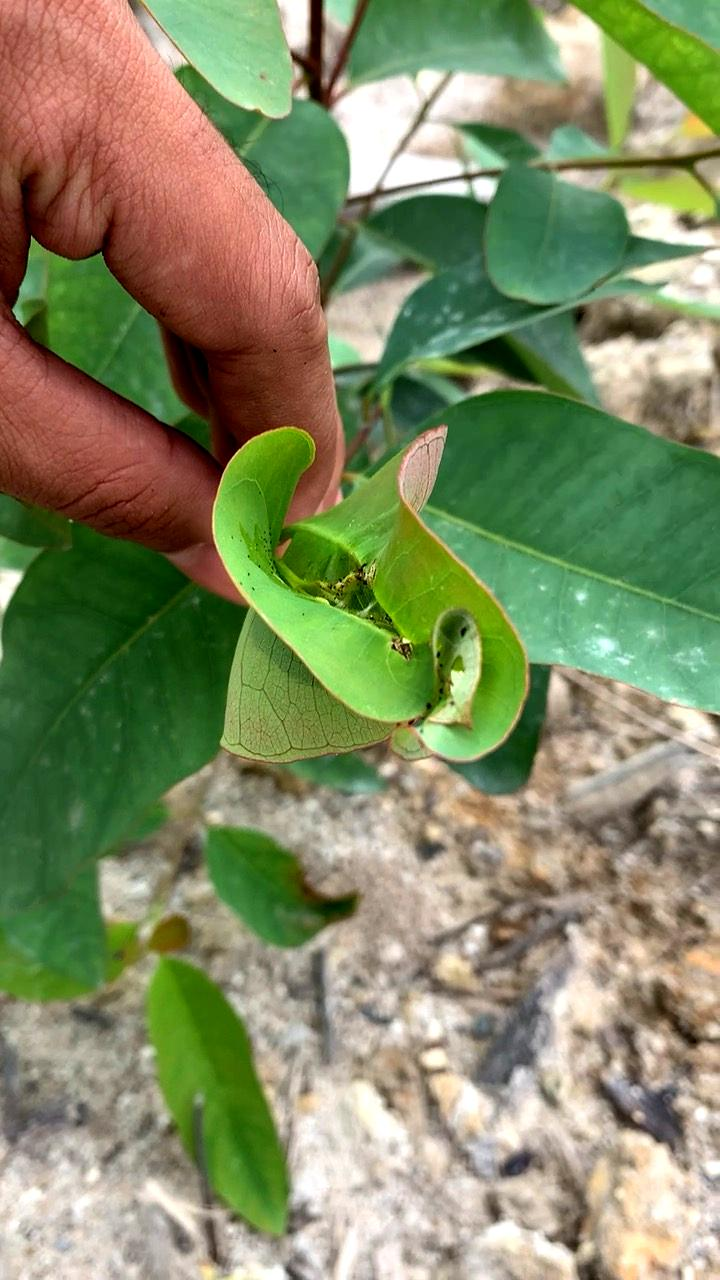Leaf Roller - Leaf: (173, 400, 558, 830)
